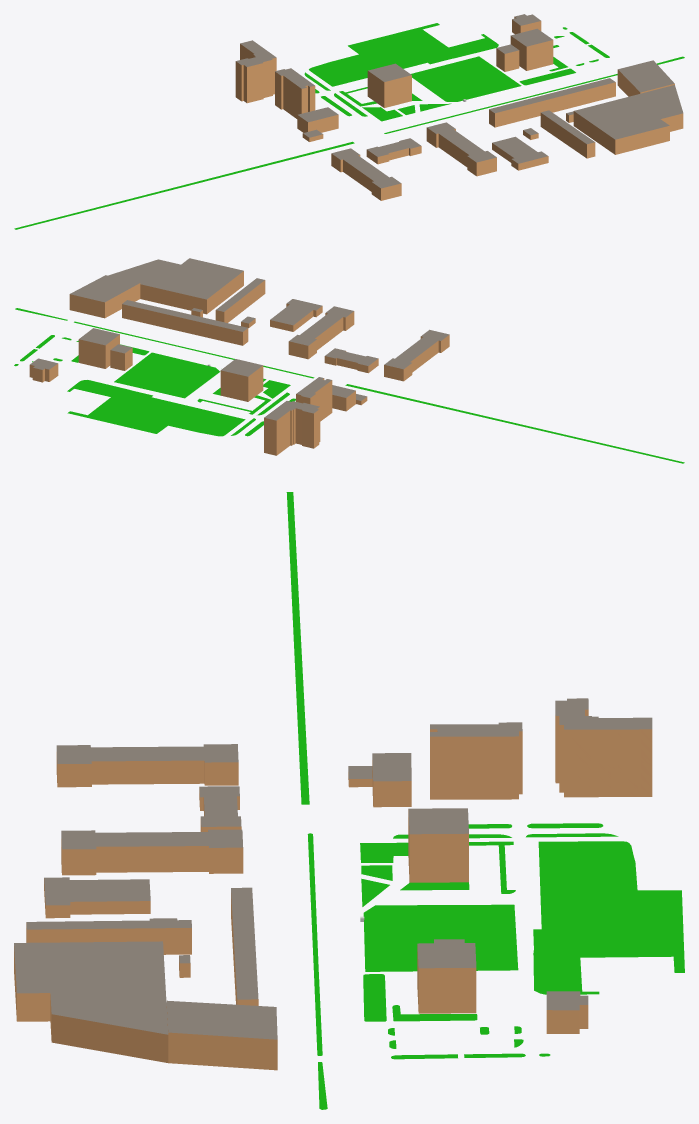
The model's file is map_zone.dae.
3 views of the same model, one above another, from view 1: azimuth 30°, elevation 25°; view 2: azimuth 150°, elevation 25°; view 3: azimuth 270°, elevation 25° (orthographic). The views are drawn at different scales.
Visible parts, largest first — view 1: map_2.osm_buildings, map_2.osm_vegetation; view 2: map_2.osm_buildings, map_2.osm_vegetation; view 3: map_2.osm_buildings, map_2.osm_vegetation.
Part boxes in pixels (left/top/right/bottom): map_2.osm_buildings: left=235, top=14, right=683, bottom=200; map_2.osm_vegetation: left=14, top=23, right=684, bottom=229; map_2.osm_buildings: left=29, top=258, right=449, bottom=455; map_2.osm_vegetation: left=14, top=308, right=684, bottom=463; map_2.osm_buildings: left=14, top=698, right=652, bottom=1070; map_2.osm_vegetation: left=286, top=492, right=684, bottom=1109.
Bounding box in the file's own units: 745 × 342 × 38.97.
